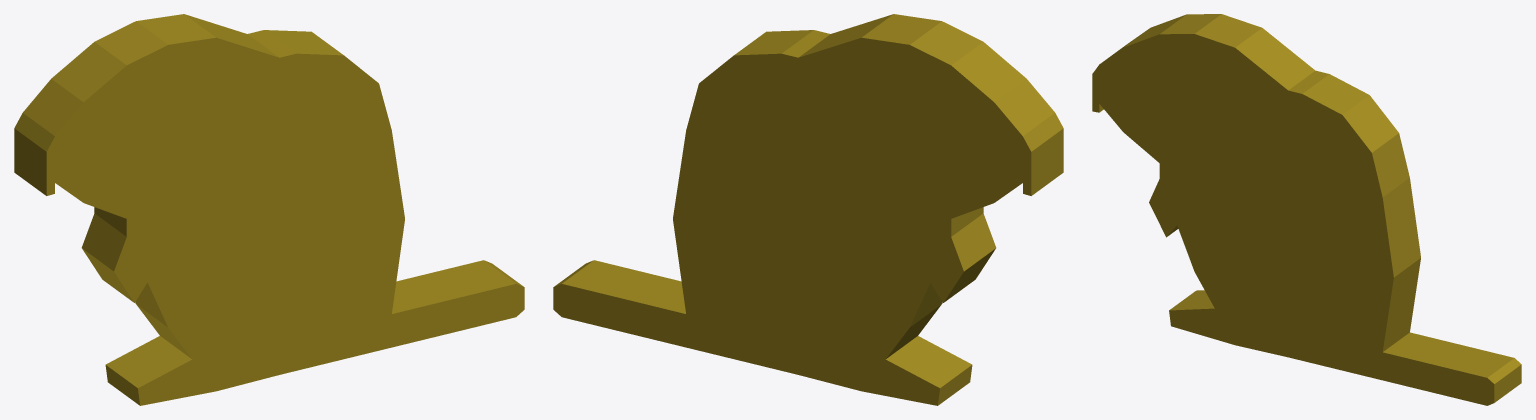
Rendered from beaver.fbx.
3 renders of one model, left to right at view 1: azimuth 30°, elevation 25°; view 2: azimuth 150°, elevation 25°; view 3: azimuth 330°, elevation 25°, orthographic. The views are drawn at different scales.
Parts seen in each view (by area): view 1: Beaver; view 2: Beaver; view 3: Beaver.
Part boxes in pixels (x1,y1,x2,y2): Beaver: [14, 14, 524, 405]; Beaver: [553, 14, 1063, 405]; Beaver: [1092, 14, 1521, 405].
Size of the model in its own units: 30.81 by 3.61 by 22.06.
